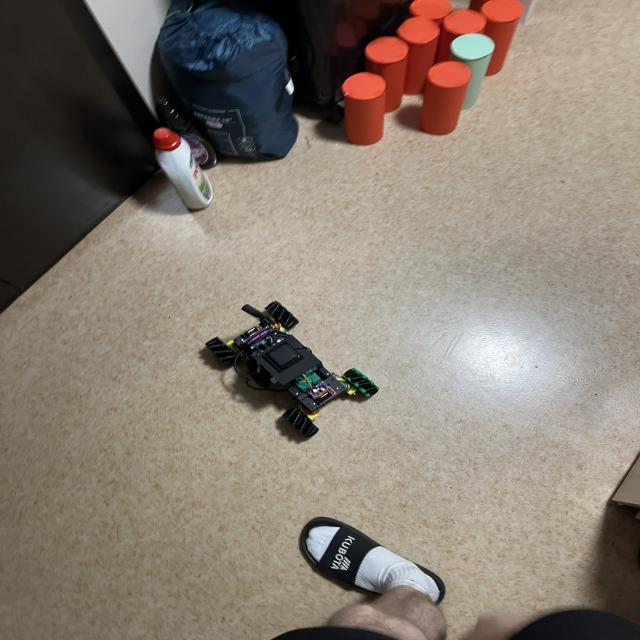robot: (206, 301, 379, 437)
